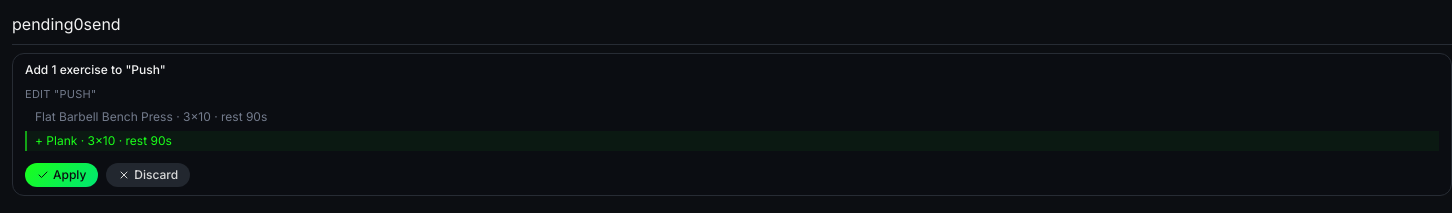
Test: a template edited between the proposal and Apply › refuses an append whose exercises the user has since added by hand
The image size is (1452, 213).
Earlier steps of the test are not shown.
Click the button "Apply" at (62, 174), box [25, 162, 98, 186]
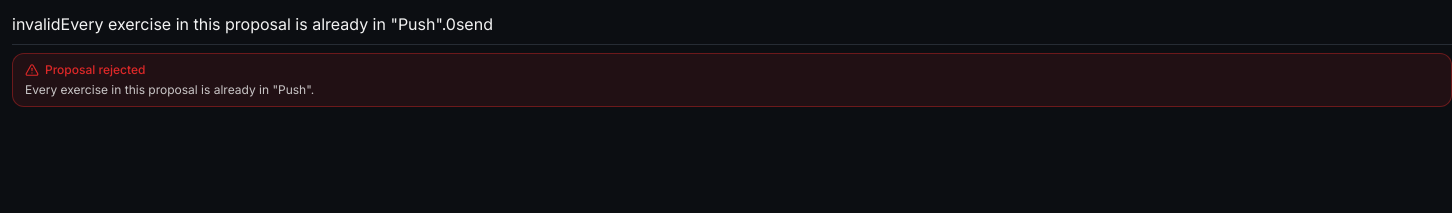
Expected: the text with test id "statuses" reads "invalid", [12, 14, 60, 34]
